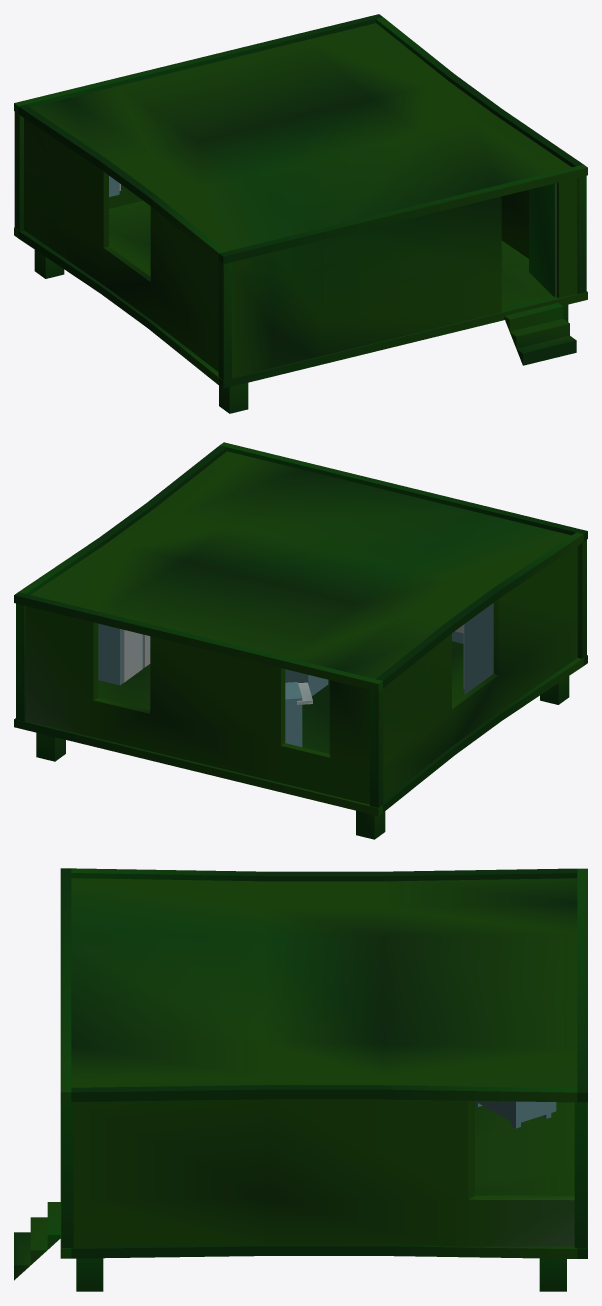
The model's file is ClinicaHumana.fbx.
3 views of the same model, one above another, from view 1: azimuth 30°, elevation 25°; view 2: azimuth 150°, elevation 25°; view 3: azimuth 270°, elevation 25° (orthographic). The views are drawn at different scales.
Parts seen in each view (by area): view 1: LOD_0; view 2: LOD_0; view 3: LOD_0.
Boxes of the visible parts, x1,y1,x2,y2 form: LOD_0: (14, 14, 587, 413); LOD_0: (14, 442, 587, 839); LOD_0: (14, 868, 587, 1291).
Size of what is drawn, in the model's own units: 883 by 381 by 955.
